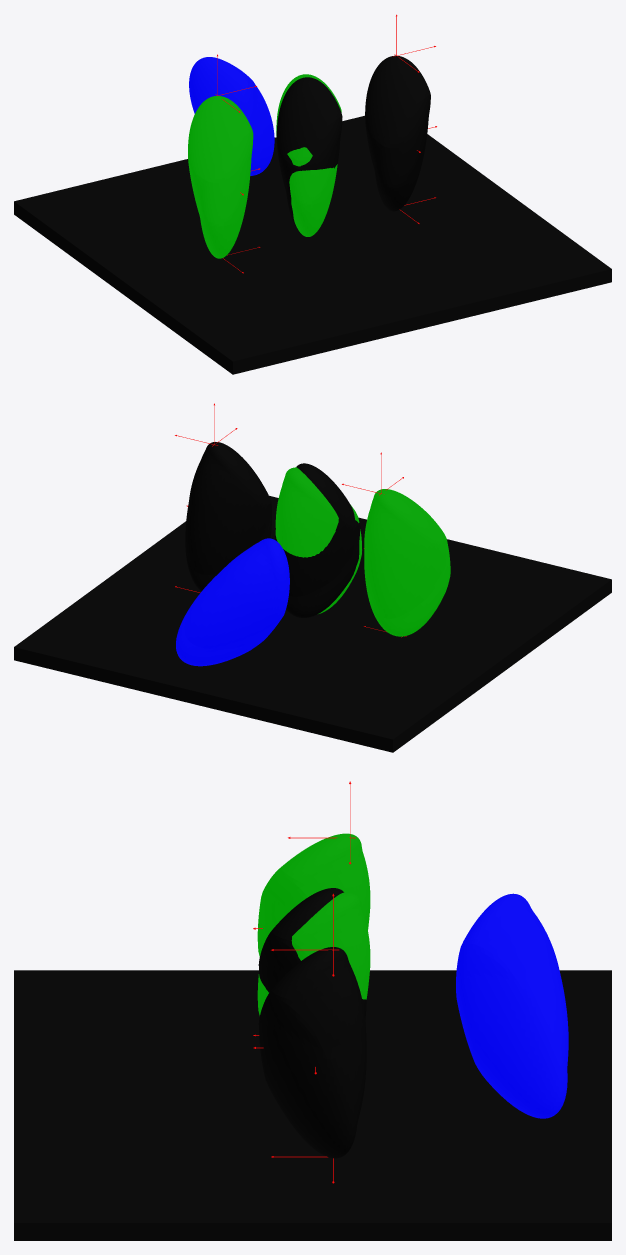
Rendered from top vs mass.glb.
3 views of the same model, one above another, from view 1: azimuth 30°, elevation 25°; view 2: azimuth 150°, elevation 25°; view 3: azimuth 270°, elevation 25° (orthographic). The views are drawn at different scales.
Size of the model in its own units: 3 by 1.56 by 3.
